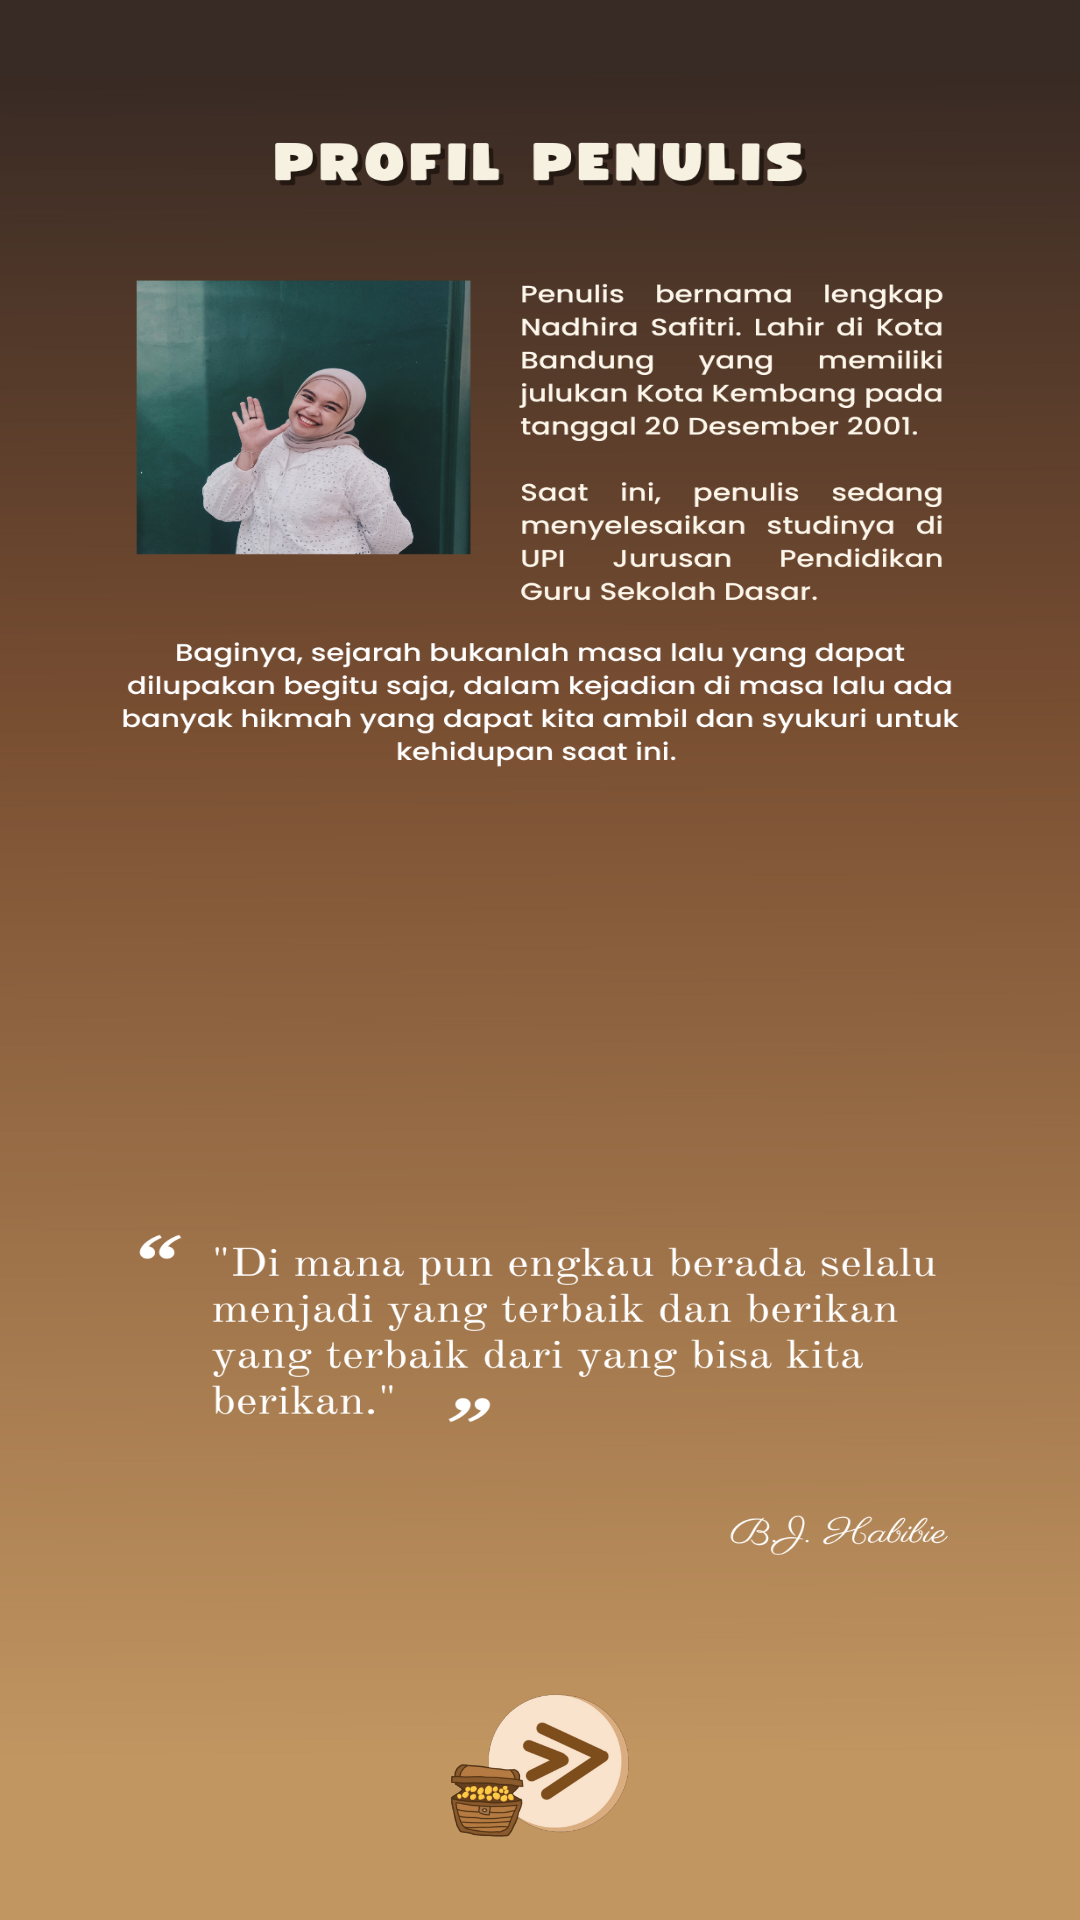

Screen size 1080px x 1920px. Icon name, then its box in pixels as [x1, y1, x2, y2]:
next: [451, 1695, 629, 1837]
